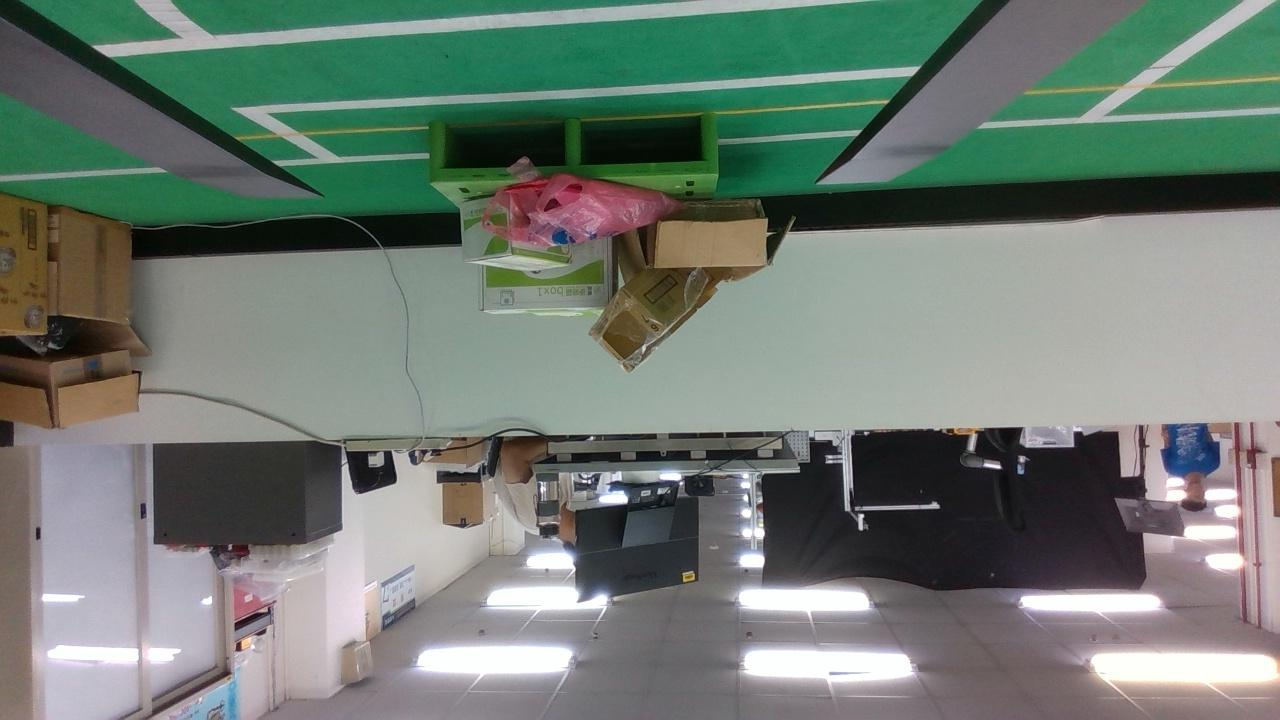Pallet: (428, 115, 720, 185)
